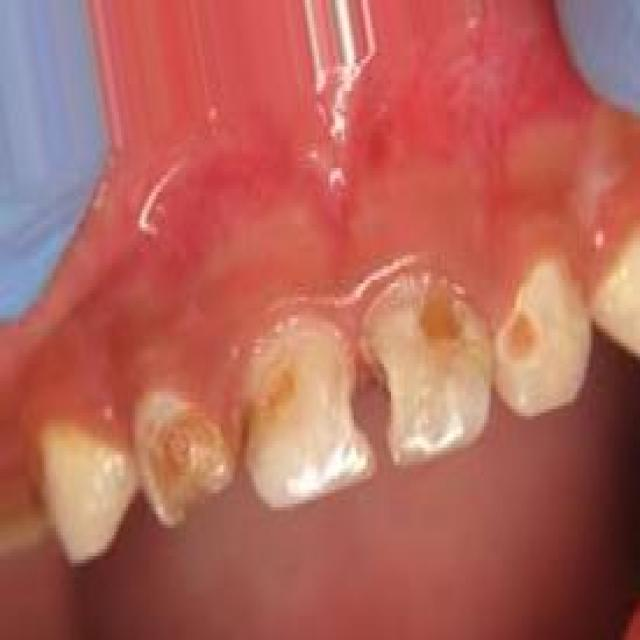caries: (361, 267, 494, 473), (234, 314, 373, 506), (492, 257, 597, 429), (131, 387, 248, 534)
